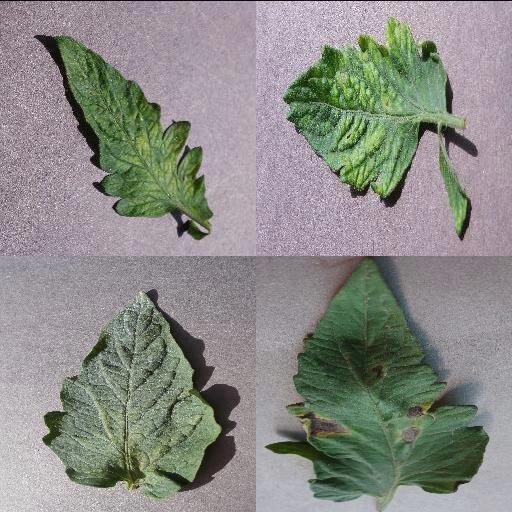Early Blight: (266, 256, 491, 503)
Mosaic Virus: (52, 33, 214, 223), (281, 16, 449, 198), (438, 140, 470, 238)
Spider Mites: (41, 289, 221, 499)
